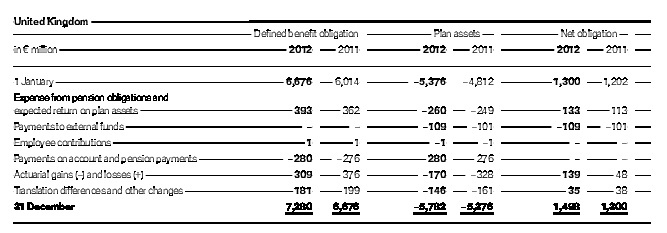table: (0, 0, 667, 233)
